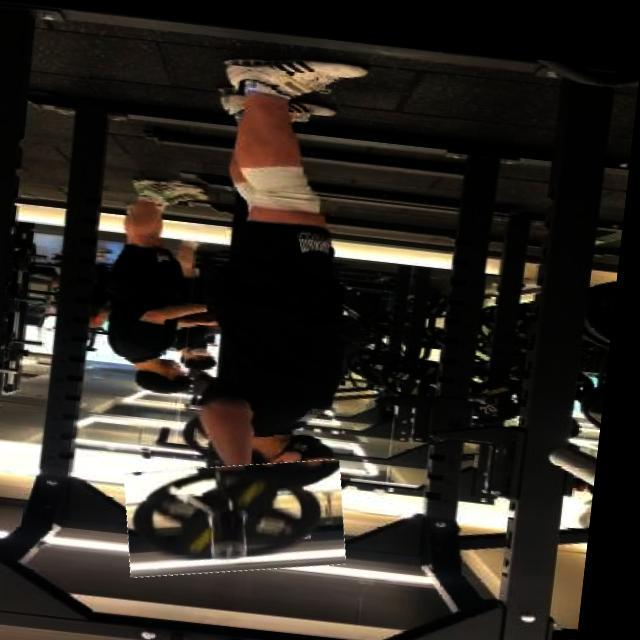barbell: (132, 442, 363, 583)
